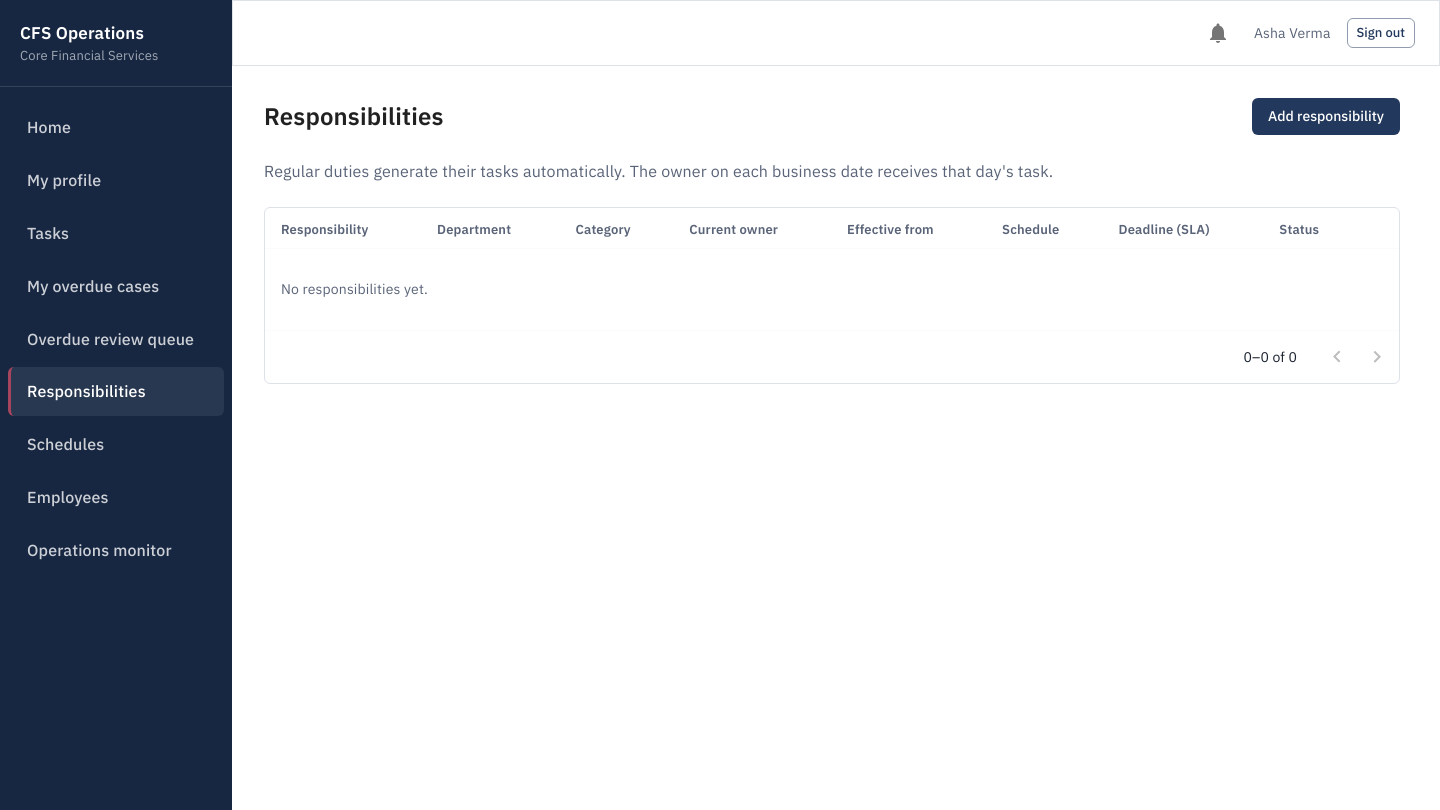
Responsibility deadline (SLA) › is disabled in the setup form for an Operations Manager
Step 1. Click the button "Add responsibility" → (1326, 116), box [1252,98,1400,134]
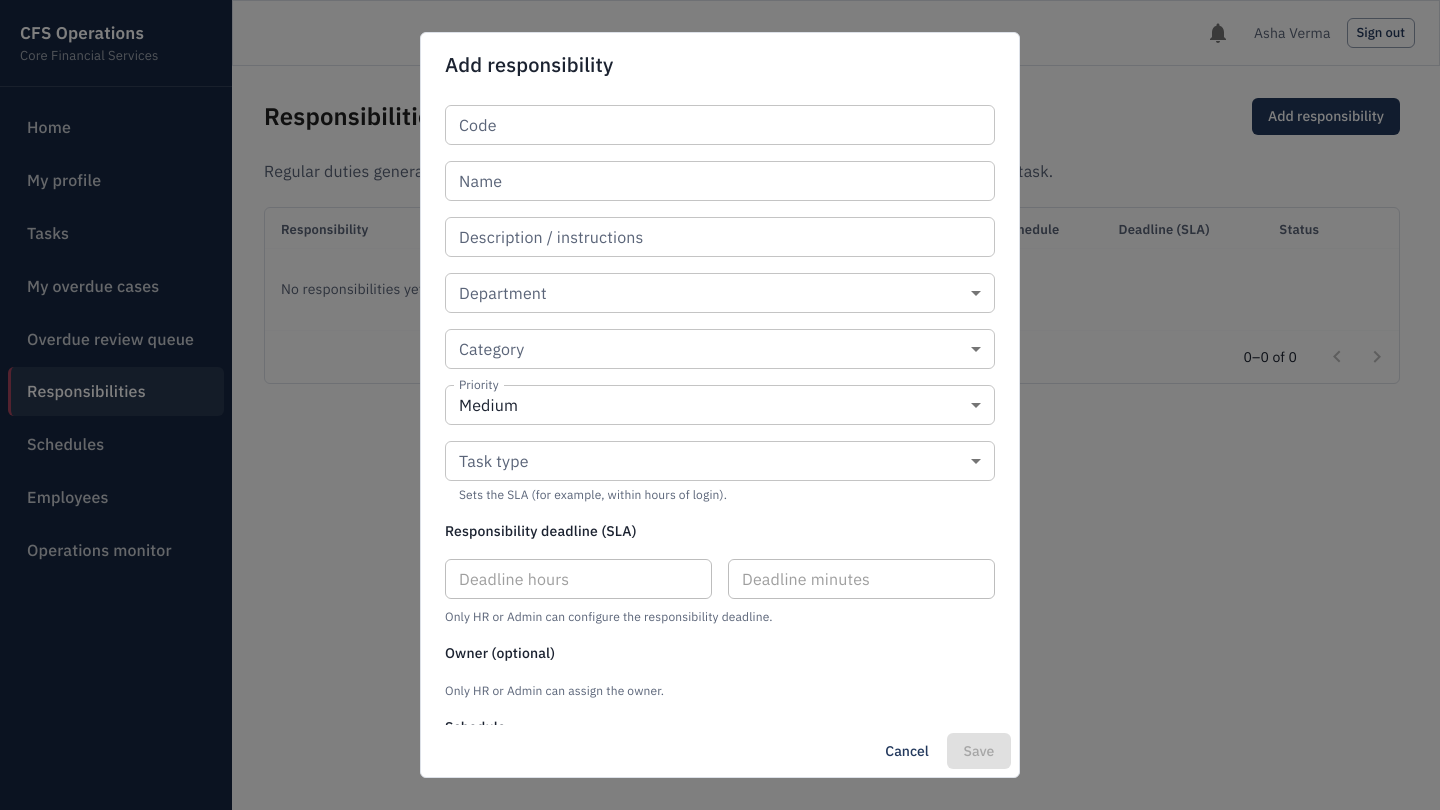
Check: the number field labelled "Deadline hours" is disabled, box [445,559,712,599]
Check: the number field labelled "Deadline minutes" is disabled, box [728,559,995,599]
